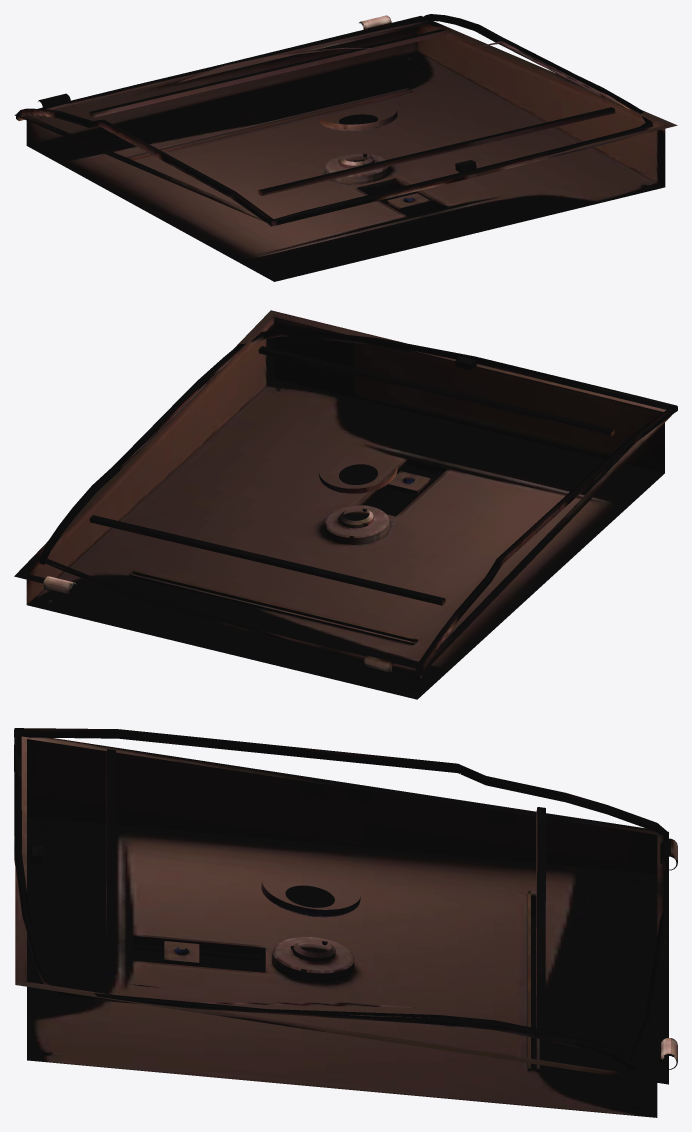
Rendered from radio-closeup.glb.
3 renders of one model, top to bottom at view 1: azimuth 30°, elevation 25°; view 2: azimuth 150°, elevation 25°; view 3: azimuth 270°, elevation 25°, orthographic. The views are drawn at different scales.
Parts seen in each view (by area): view 1: Radio_CD_Well, Radio_CD_LidInner; view 2: Radio_CD_Well, Radio_CD_LidInner; view 3: Radio_CD_Well, Radio_CD_LidInner.
Part boxes in pixels (x1,y1,x2,y2): Radio_CD_Well: [14, 15, 677, 281]; Radio_CD_LidInner: [16, 14, 652, 226]; Radio_CD_Well: [14, 310, 674, 699]; Radio_CD_LidInner: [39, 329, 677, 679]; Radio_CD_Well: [15, 736, 677, 1117]; Radio_CD_LidInner: [14, 728, 668, 1069].
Size of the model in its own units: 0.203 by 0.0586 by 0.2254.
Materials: 1 (1 with a texture image).
